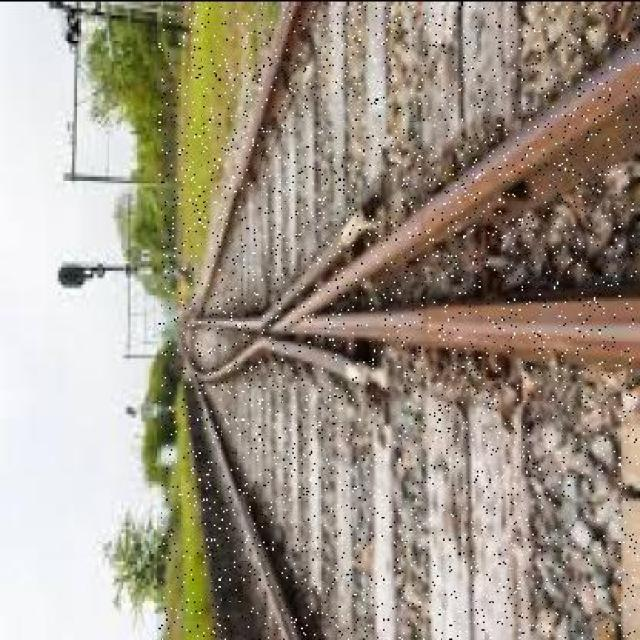rail: (159, 5, 638, 638)
